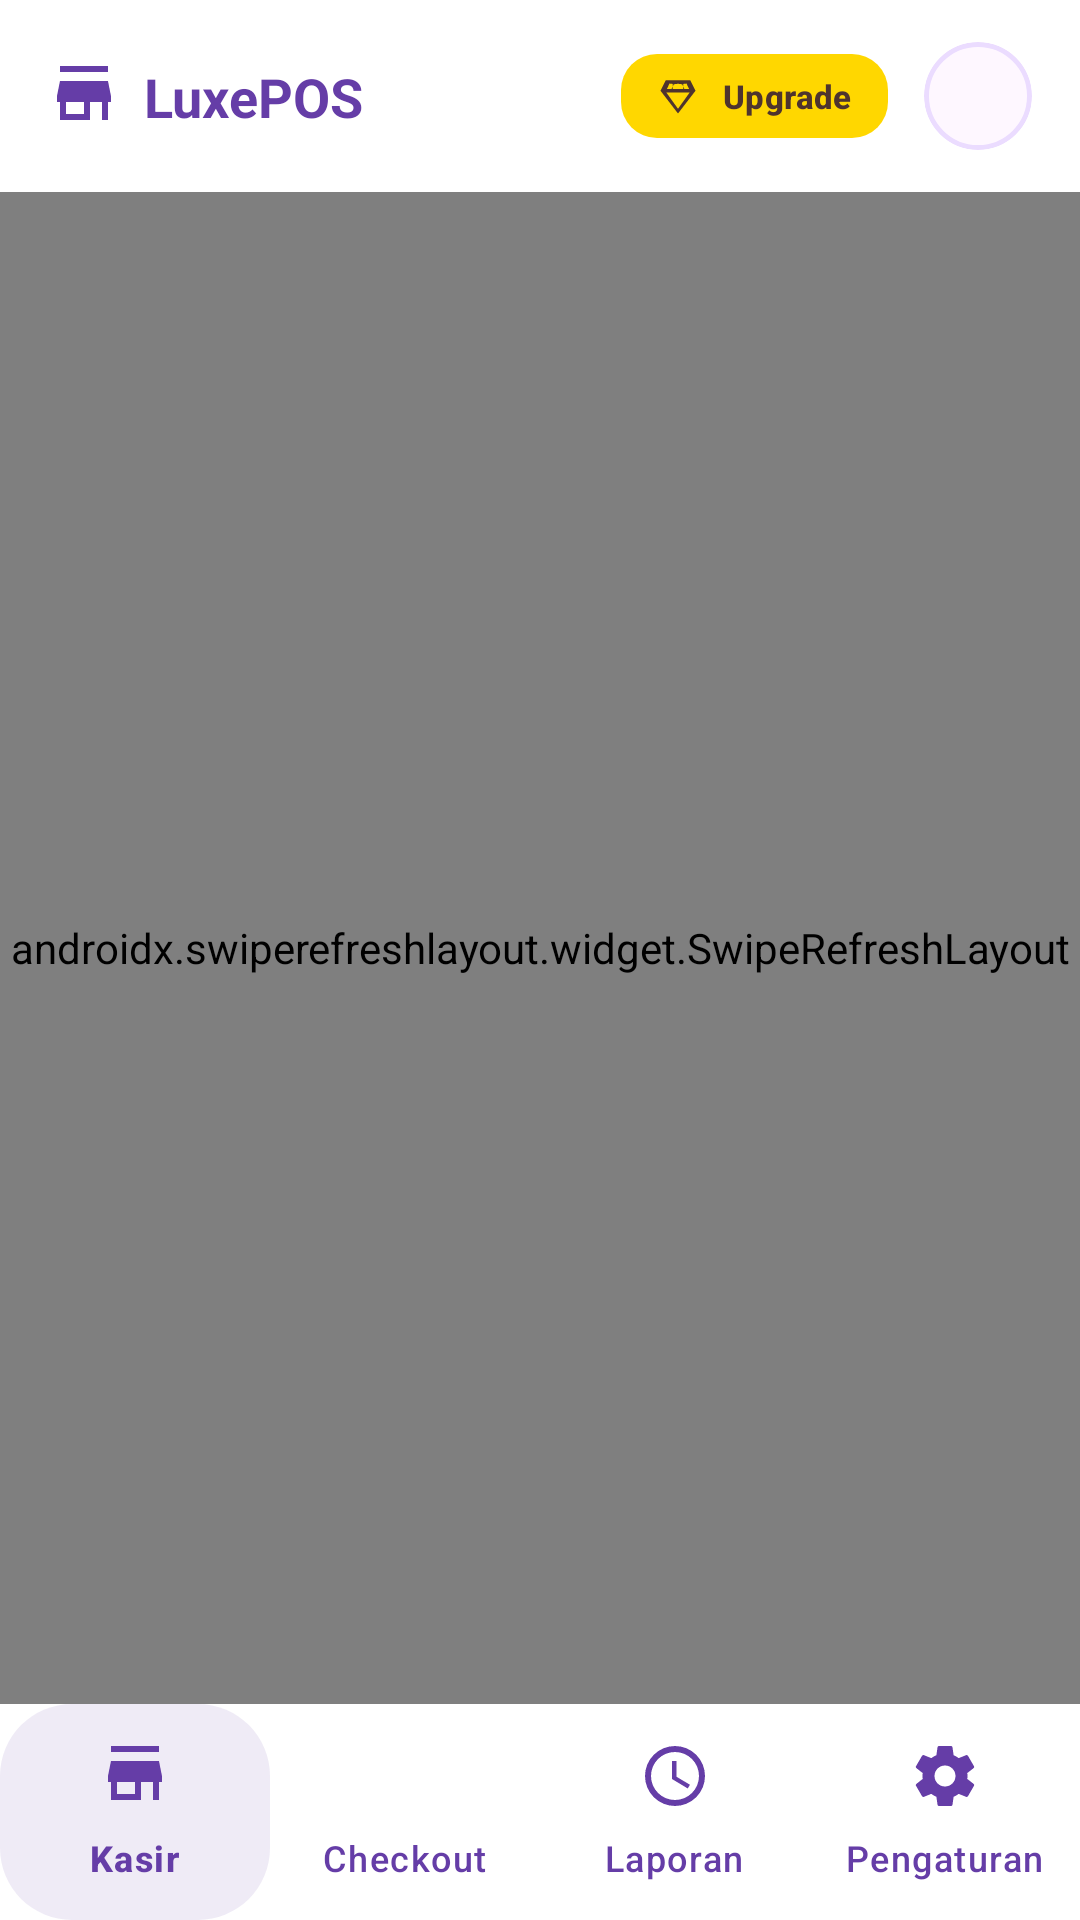

Named icons in this screenshot (1080*1920) and their bounding boxes, (x1, y1, x2, y2):
store: (57, 66, 111, 120)
